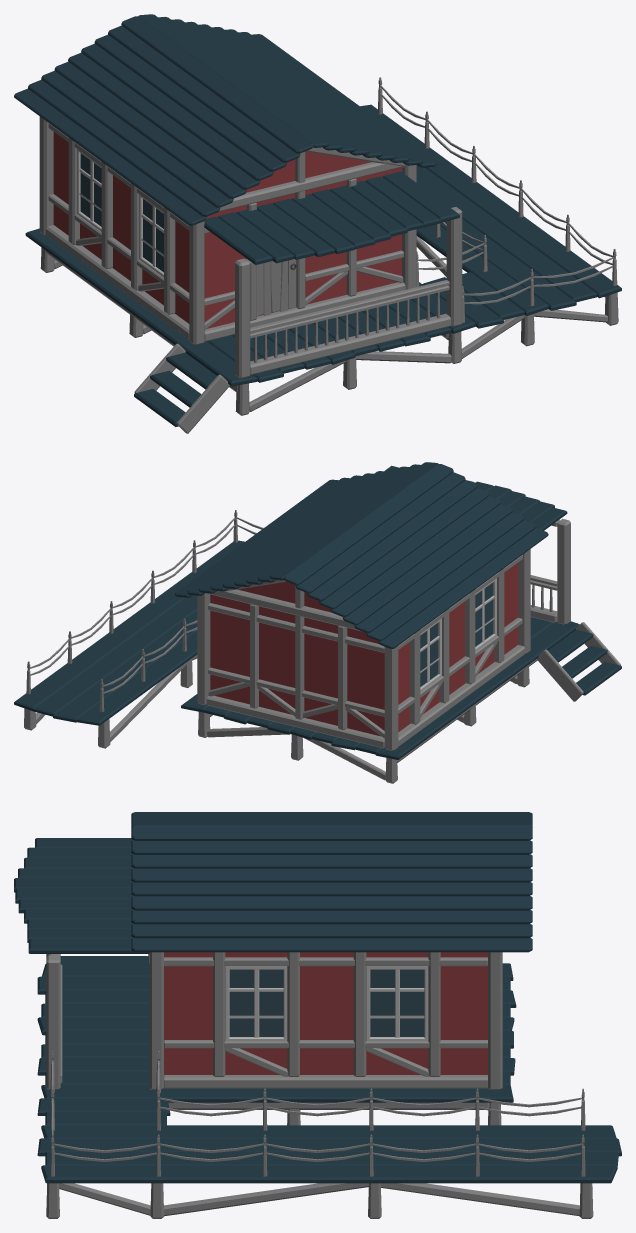
The model's file is farmstractures_16.glb.
The picture shows the model from 3 angles, top to bottom: view 1: azimuth 30°, elevation 25°; view 2: azimuth 150°, elevation 25°; view 3: azimuth 270°, elevation 25°; orthographic projection. The views are drawn at different scales.
Visible parts, largest first — view 1: farmstractures_16; view 2: farmstractures_16; view 3: farmstractures_16.
Boxes of the visible parts, bbox=[...] form: farmstractures_16: bbox=[14, 14, 621, 433]; farmstractures_16: bbox=[14, 462, 621, 783]; farmstractures_16: bbox=[14, 812, 621, 1218].
Bounding box in the file's own units: 8.59 × 4.16 × 9.04.
Materials: 1 (1 with a texture image).
